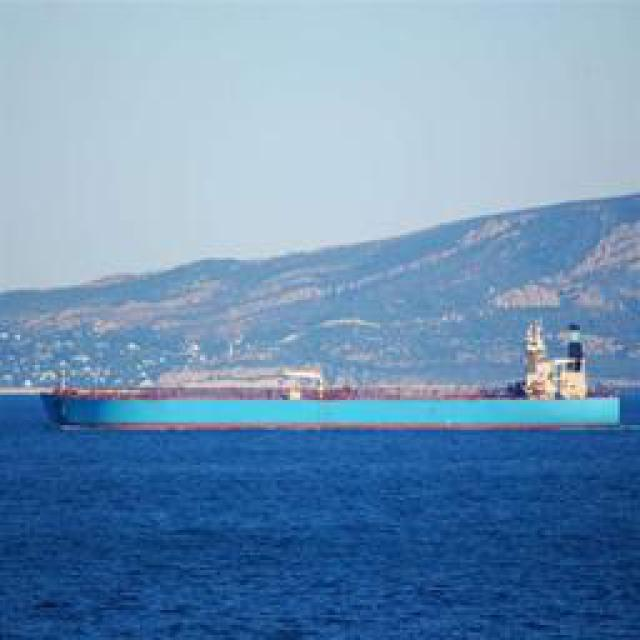Ship: (42, 341, 620, 436)
